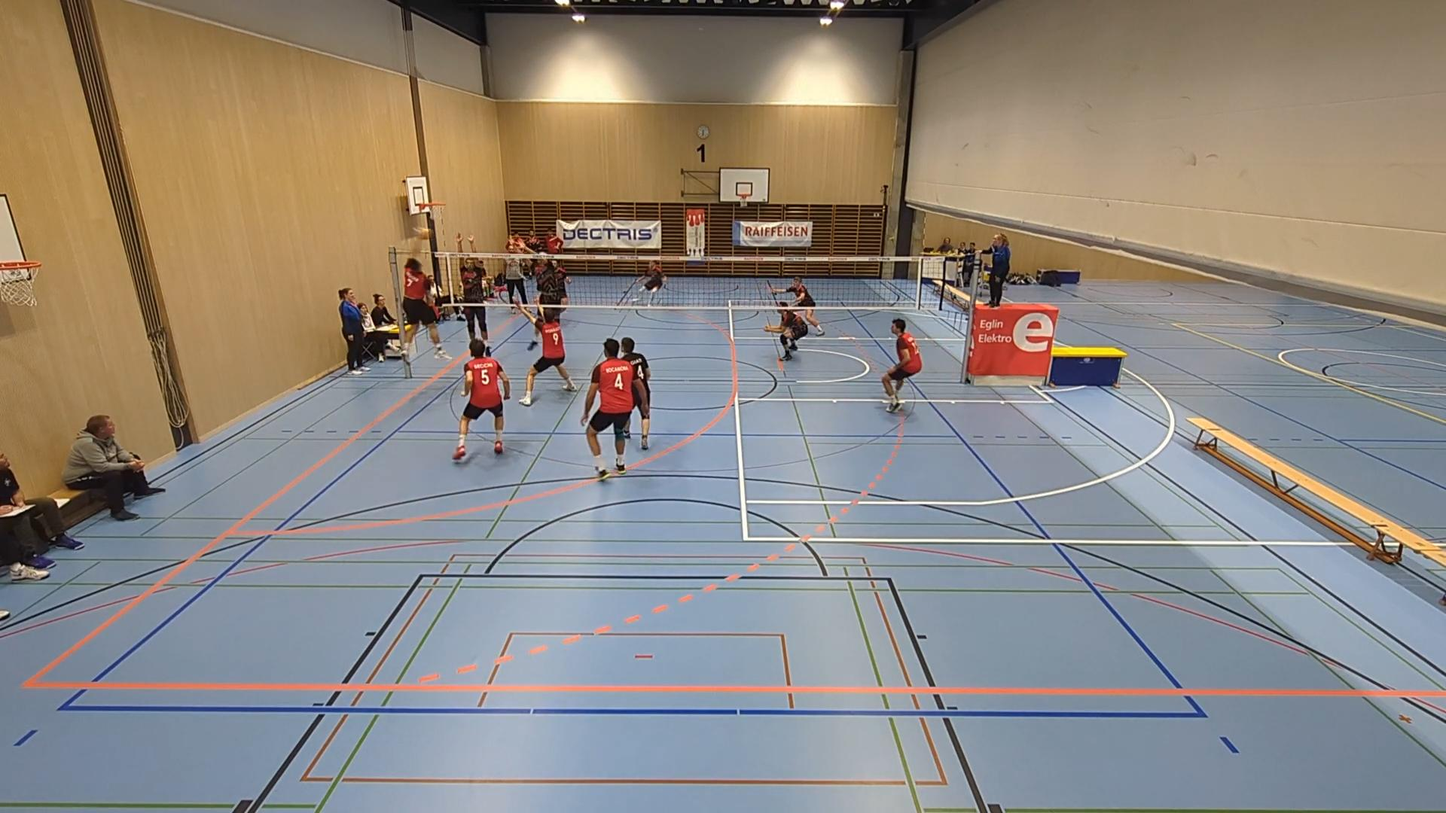attacco: (392, 243, 451, 362)
muro: (503, 232, 568, 346), (454, 232, 496, 364)
